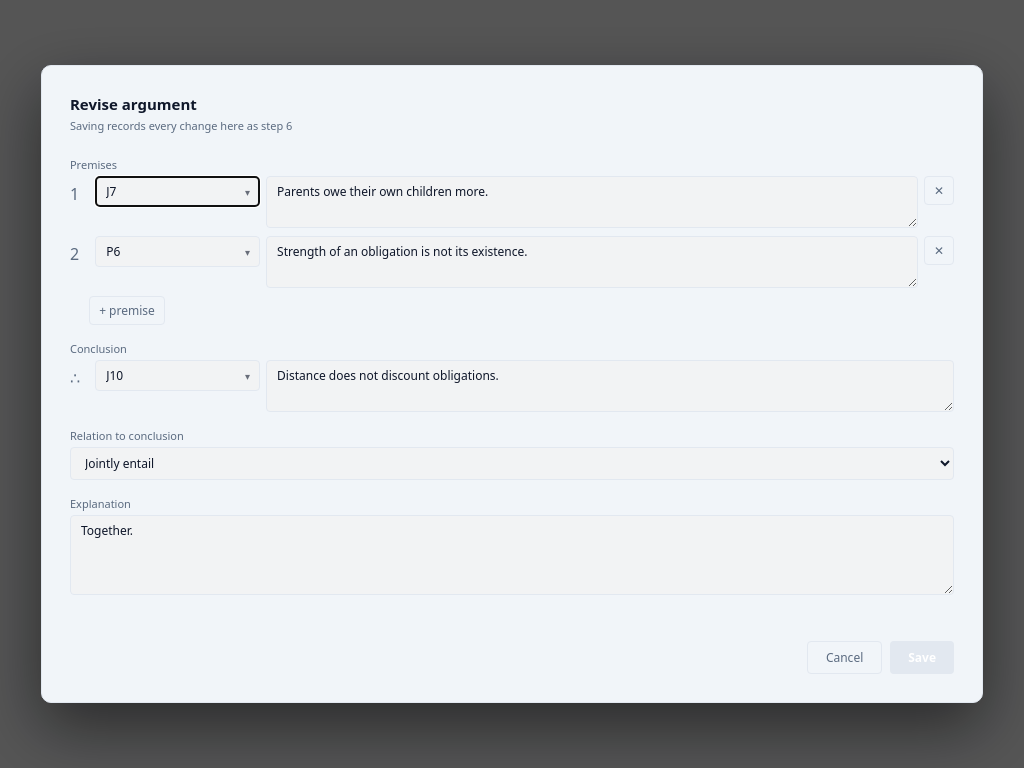
Test: ReviseArgumentModal › refuses a premise as the conclusion
Click the dropdown named "Conclusion source": click(178, 376) [95,360,260,391]
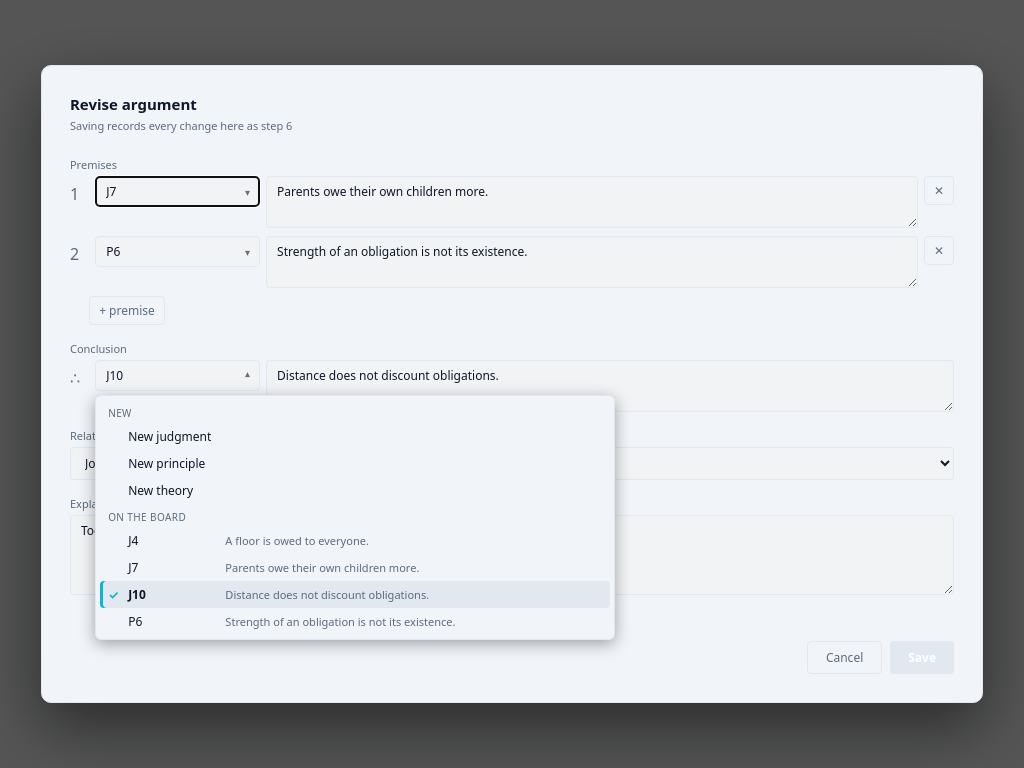
Click the option "J7 Parents owe their own children more.": click(274, 568) [128,559,419,576]
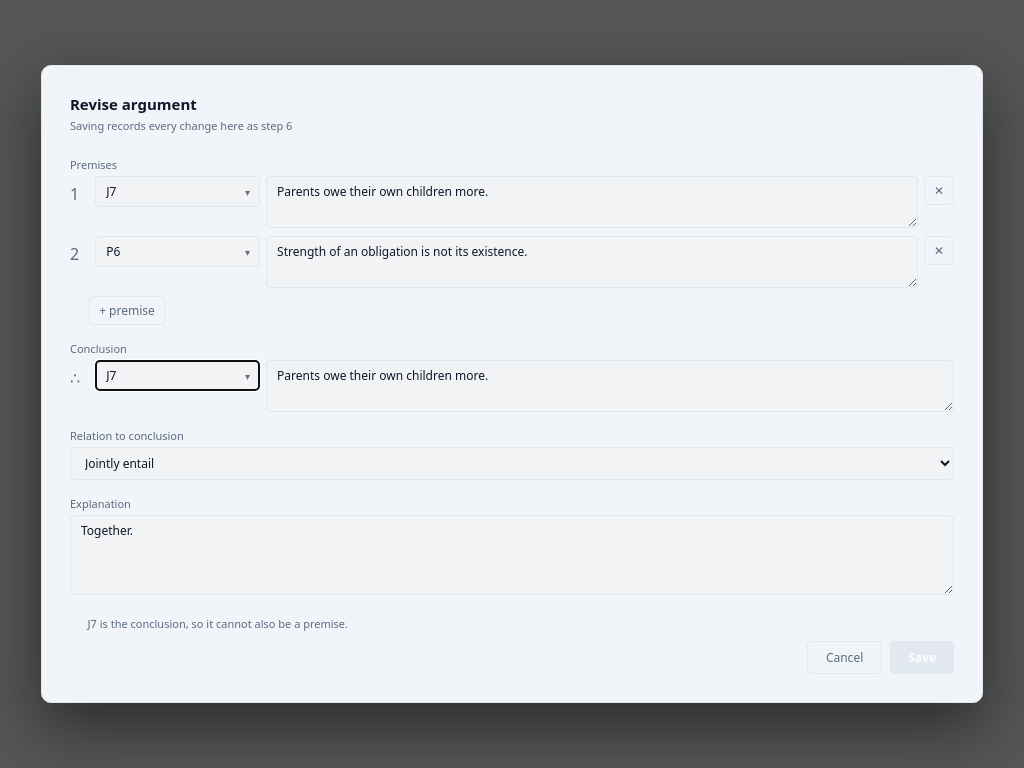
Expected: the button "Save" is disabled, [890,641,954,674]
Expected: the text "J7 is the conclusion, so it cannot also be a premise." is shown, [88,616,348,631]
